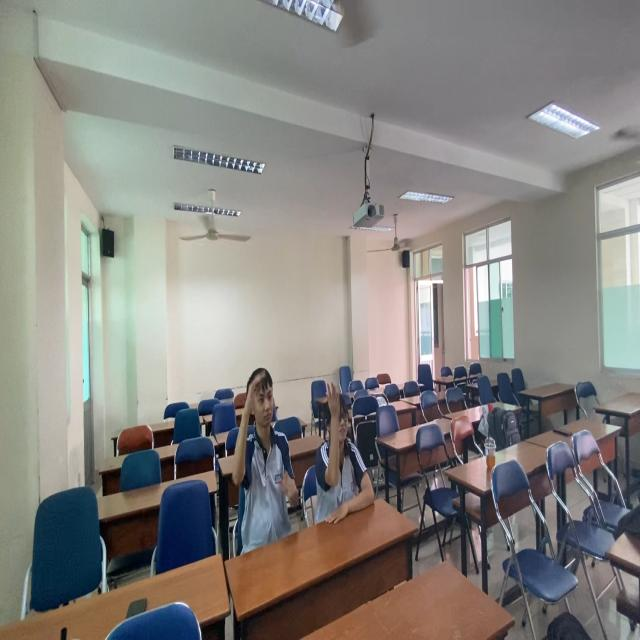raise_hand: (316, 378, 379, 530)
